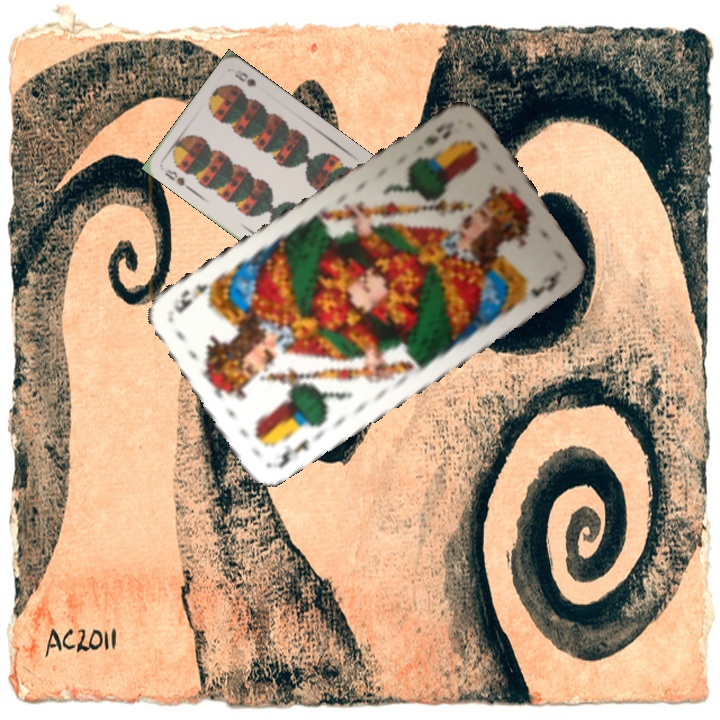EK: (274, 435, 312, 471), (419, 117, 457, 148)
S8: (160, 165, 194, 193)
